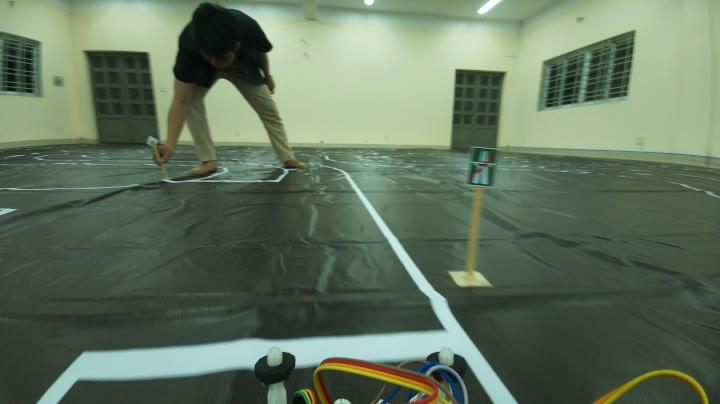highway_exit: (463, 138, 507, 196)
